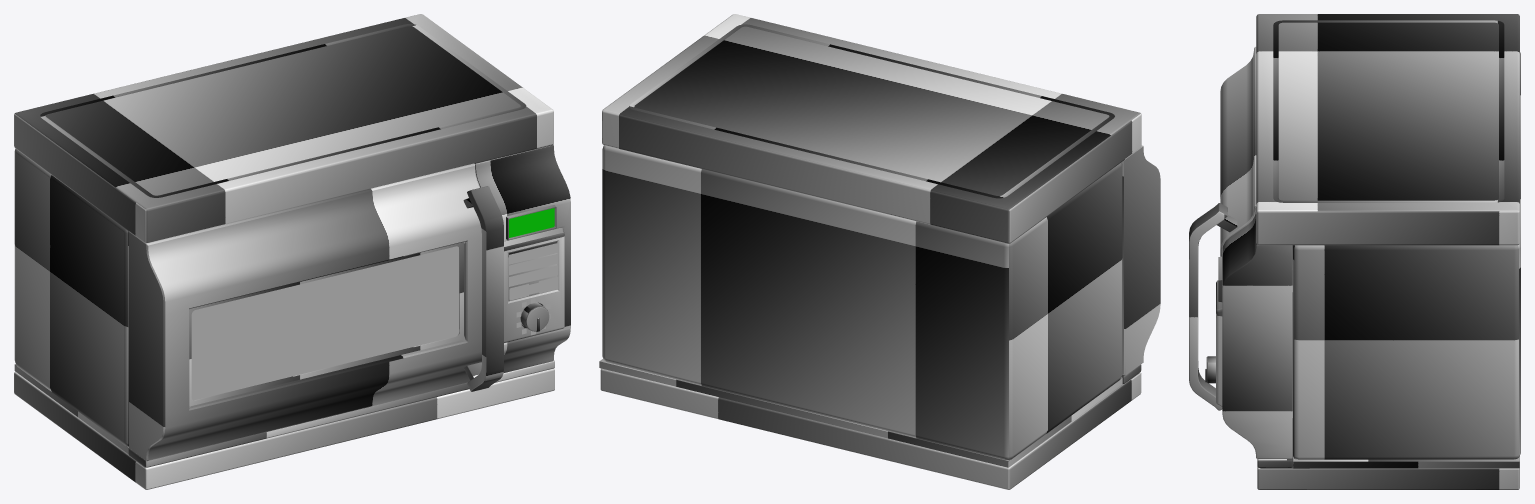
The model's file is microwaves_test.fbx.
The picture shows the model from 3 angles, left to right: view 1: azimuth 30°, elevation 25°; view 2: azimuth 150°, elevation 25°; view 3: azimuth 270°, elevation 25°; orthographic projection.
Visible parts, largest first — view 1: microwave_c1, microwave_door_c1; view 2: microwave_c1, microwave_door_c1; view 3: microwave_c1, microwave_door_c1.
Part boxes in pixels (left/top/right/bottom): microwave_c1: left=14, top=14, right=570, bottom=489; microwave_door_c1: left=129, top=163, right=503, bottom=461; microwave_c1: left=599, top=14, right=1141, bottom=489; microwave_door_c1: left=1121, top=145, right=1160, bottom=375; microwave_c1: left=1205, top=14, right=1520, bottom=489; microwave_door_c1: left=1189, top=46, right=1256, bottom=410.
Size of the model in its own units: 60.62 by 39.69 by 42.75.
